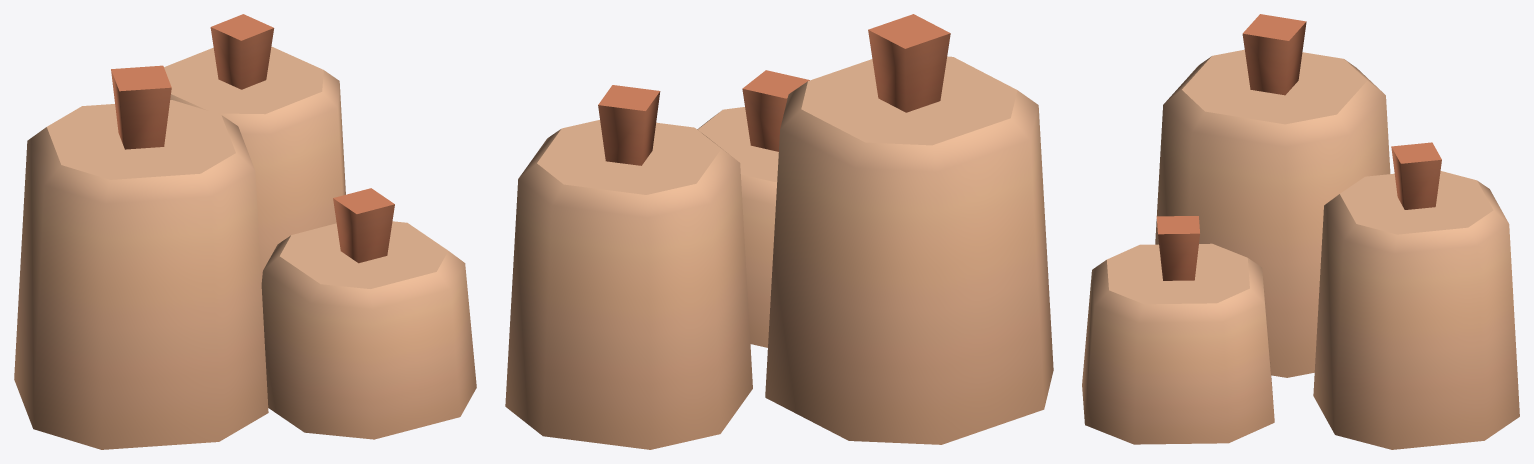
Rendered from grave.candle_multiple.glb.
3 renders of one model, left to right at view 1: azimuth 30°, elevation 25°; view 2: azimuth 150°, elevation 25°; view 3: azimuth 270°, elevation 25°, orthographic. The views are drawn at different scales.
Parts seen in each view (by area): view 1: candle-multiple; view 2: candle-multiple; view 3: candle-multiple.
Part boxes in pixels (bbox=[...]): candle-multiple: bbox=[14, 14, 476, 449]; candle-multiple: bbox=[505, 14, 1053, 449]; candle-multiple: bbox=[1082, 14, 1519, 449].
Bounding box in the file's own units: 0.2741 × 0.215 × 0.2865.
1 material, 1 textured.
